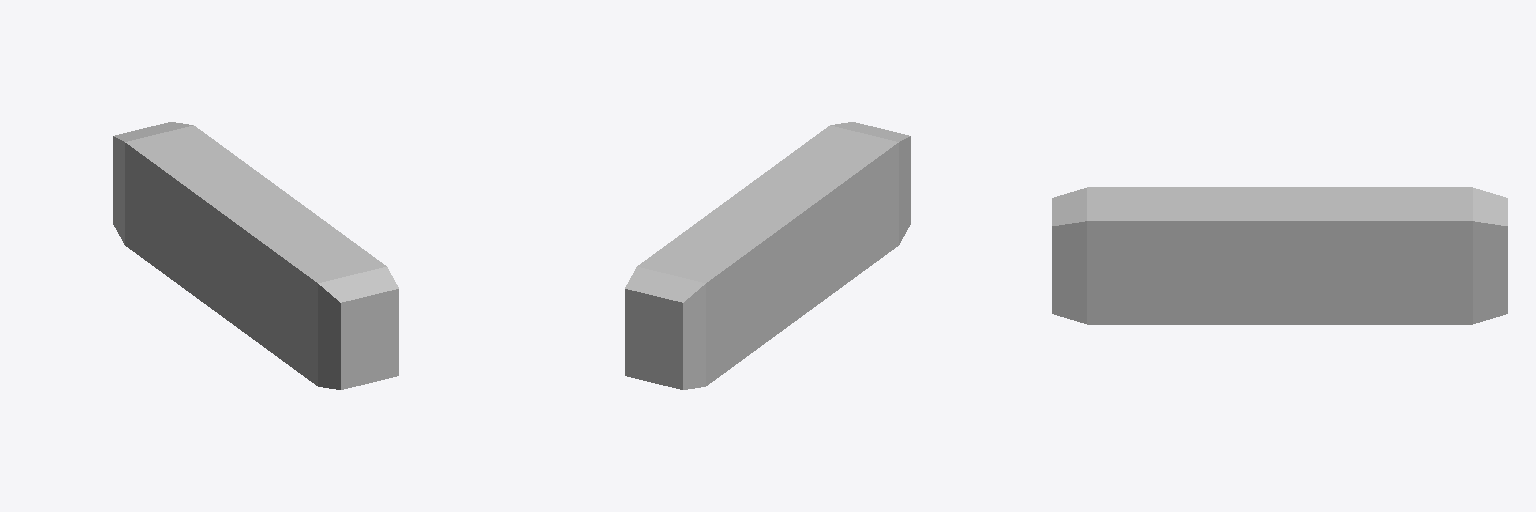
Rendered from senila1.obj.
The picture shows the model from 3 angles: view 1: azimuth 30°, elevation 25°; view 2: azimuth 150°, elevation 25°; view 3: azimuth 270°, elevation 25°; orthographic projection.
Visible parts, largest first — view 1: Cube; view 2: Cube; view 3: Cube.
Boxes of the visible parts, box(x1,y1,x2,y2) form: Cube: box(113, 122, 398, 389); Cube: box(625, 122, 910, 389); Cube: box(1052, 187, 1507, 324).
Bounding box in the file's own units: 0.7 × 1 × 4.